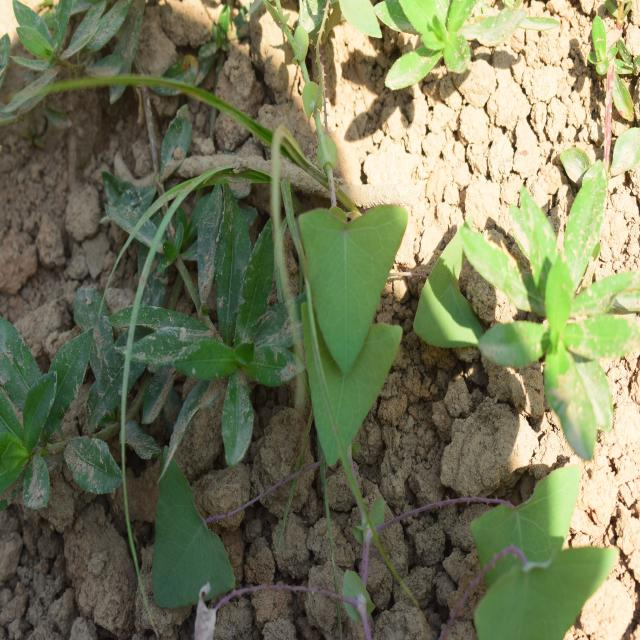Asiatic_Smartweed: (289, 192, 412, 458), (472, 468, 606, 640)
